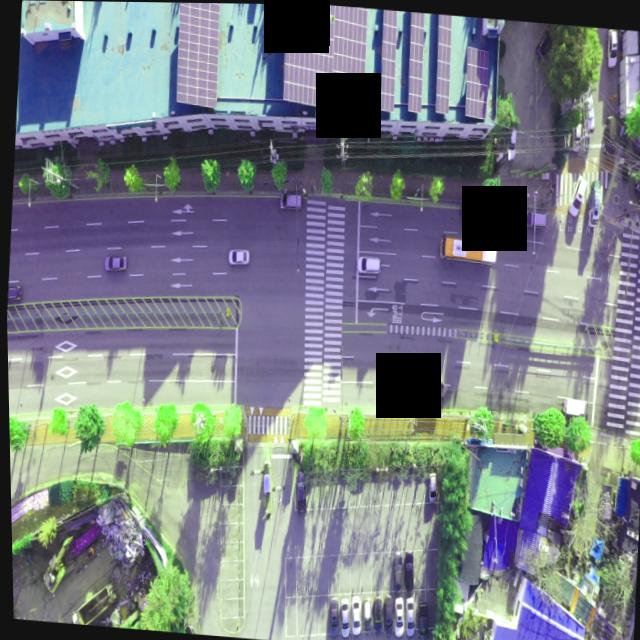car: (568, 174, 590, 217), (602, 113, 618, 157), (604, 26, 620, 67), (291, 470, 307, 511), (535, 25, 554, 59), (425, 374, 447, 400), (413, 599, 427, 639), (388, 549, 401, 592), (346, 594, 359, 635), (401, 550, 414, 591), (355, 254, 381, 274), (336, 596, 349, 635), (325, 596, 338, 635), (520, 209, 545, 229), (279, 192, 303, 211), (402, 598, 414, 636), (389, 597, 401, 635), (103, 255, 127, 273), (506, 124, 518, 159), (226, 247, 248, 264), (370, 597, 381, 630), (572, 125, 584, 153), (380, 595, 390, 628), (358, 597, 369, 627), (5, 284, 21, 303), (426, 469, 436, 499)
large_bus: (439, 235, 497, 266)
medium_truck: (62, 578, 116, 627)
small_truck: (595, 481, 612, 522), (588, 179, 601, 226), (559, 395, 584, 419), (492, 201, 518, 222), (582, 94, 595, 135), (460, 199, 483, 219)
